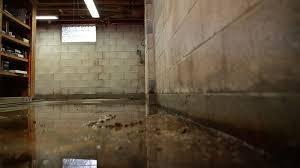water accumulation: (0, 97, 300, 168)
